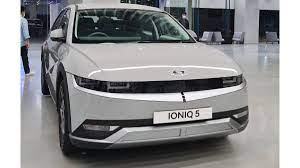Honda Ioniq: (36, 3, 260, 168)
